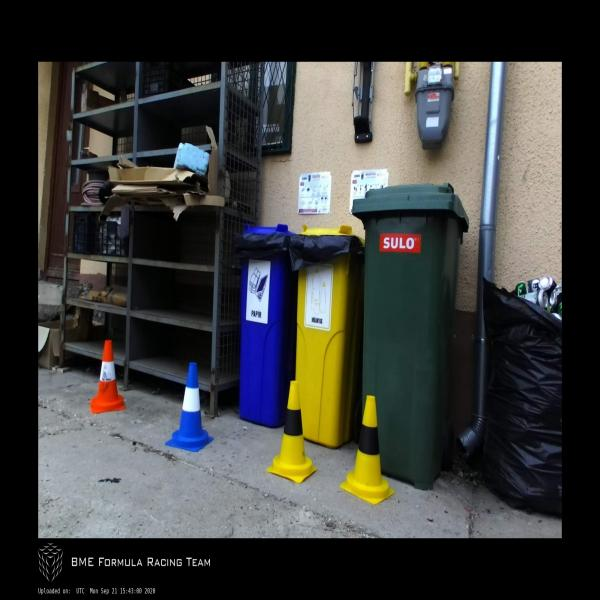blue_cone: (166, 363, 214, 452)
orange_cone: (90, 339, 126, 415)
yellow_cone: (340, 395, 395, 506), (267, 381, 318, 484)
